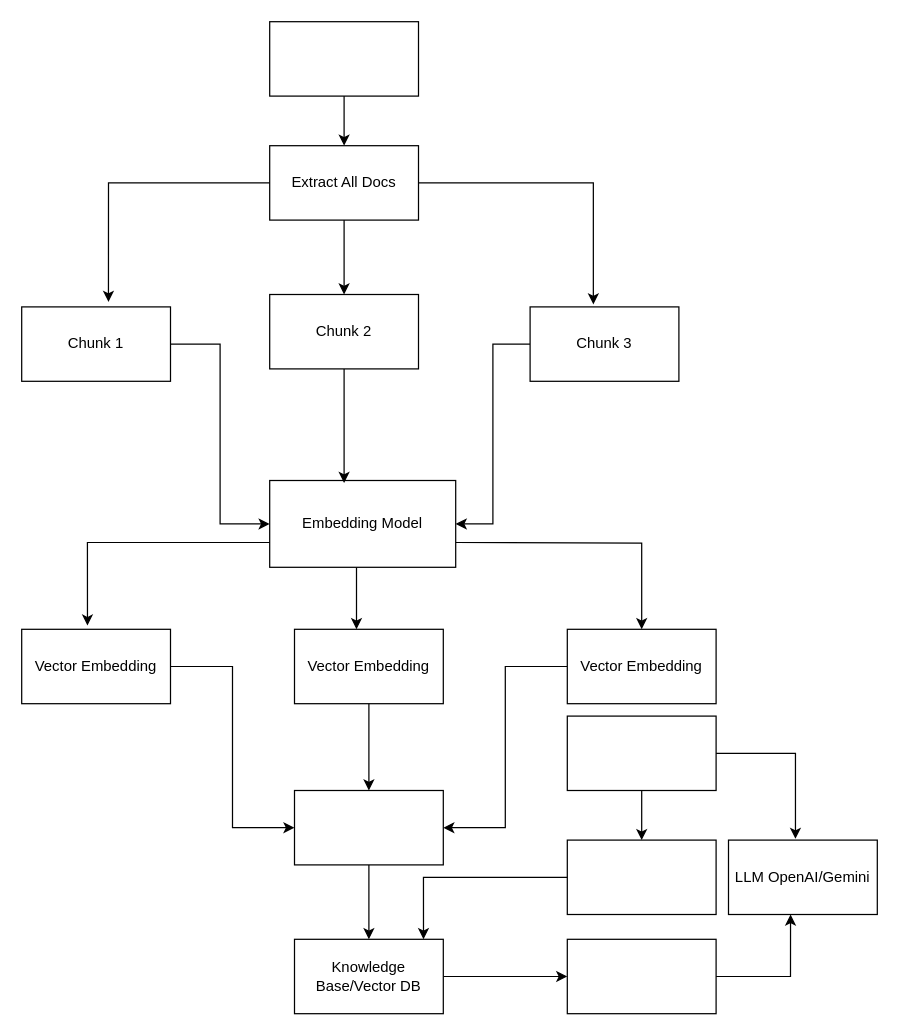
Some shapes in this 899 by 1035 pixel diagram are drawn without their labels. Here are the shapes that lost their labels. From the top down, the box of each, then its label:
(268, 20, 418, 96): Data/Docs/Book
(566, 715, 716, 790): User Query/User Question
(293, 789, 443, 865): Build Semantic Index
(566, 839, 716, 914): Query Embedding
(566, 938, 716, 1014): Rank Result
